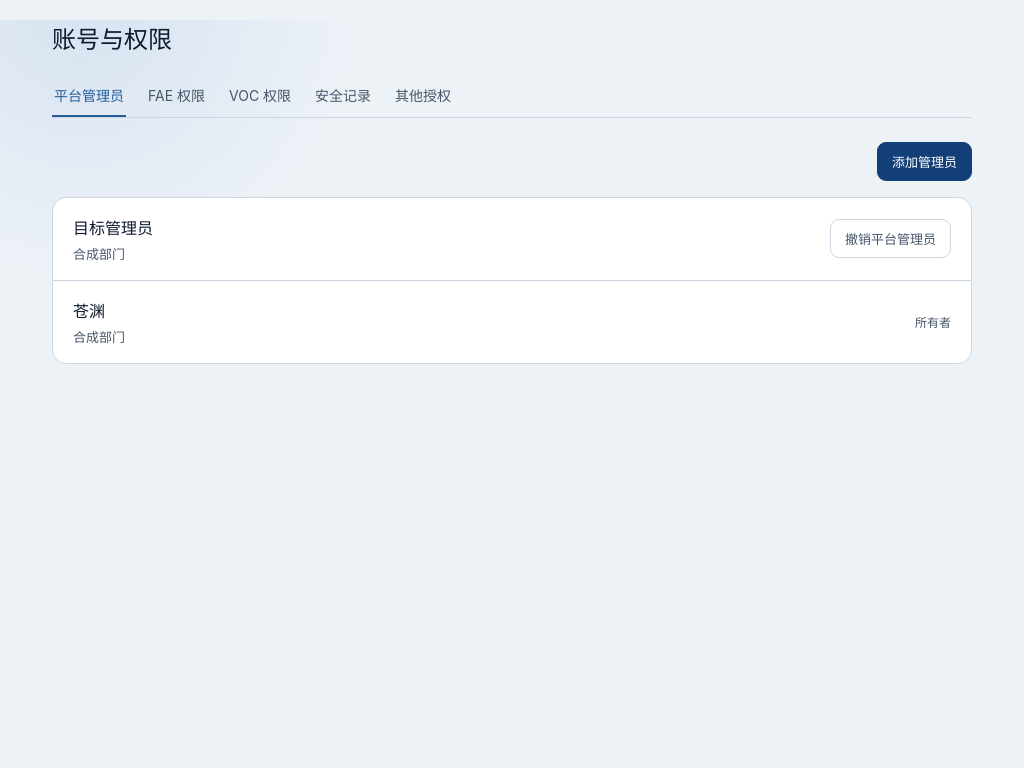
Test: IdentityManagementPage › keeps the outcome unknown without claiming a refresh when reconciliation reads fail
Click the button "添加管理员" at (924, 161), box x1=877 y1=142 x2=972 y2=181
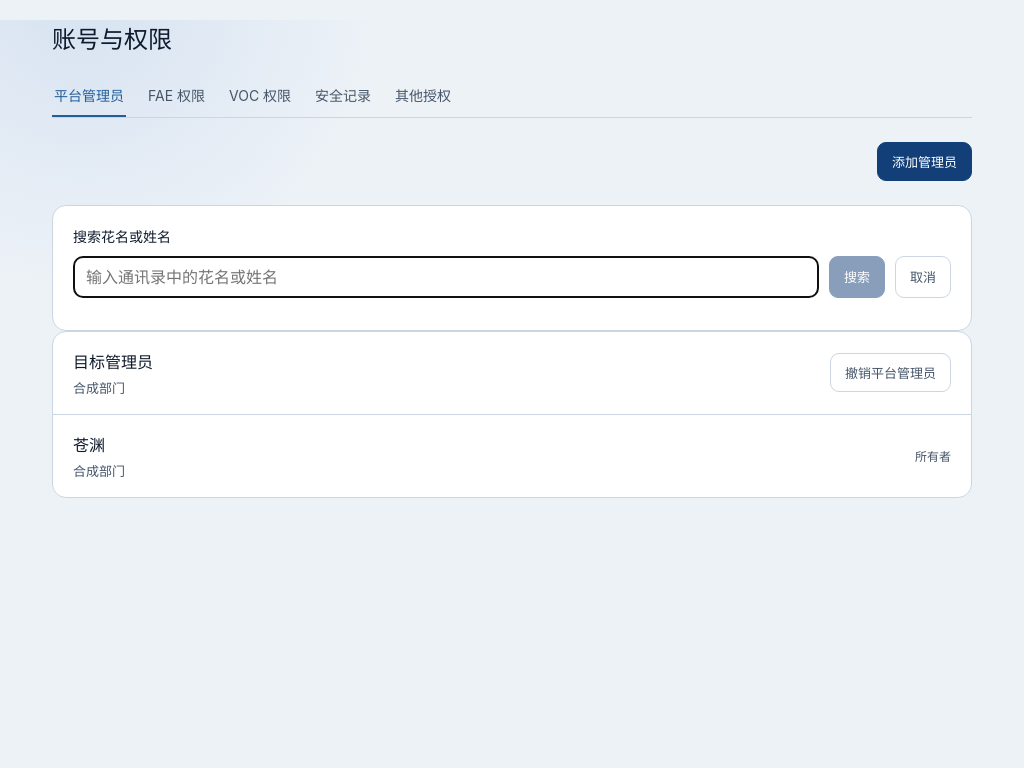
Type "测试成员" into the field with id "administrator-query" at (446, 277), box x1=73 y1=256 x2=819 y2=298
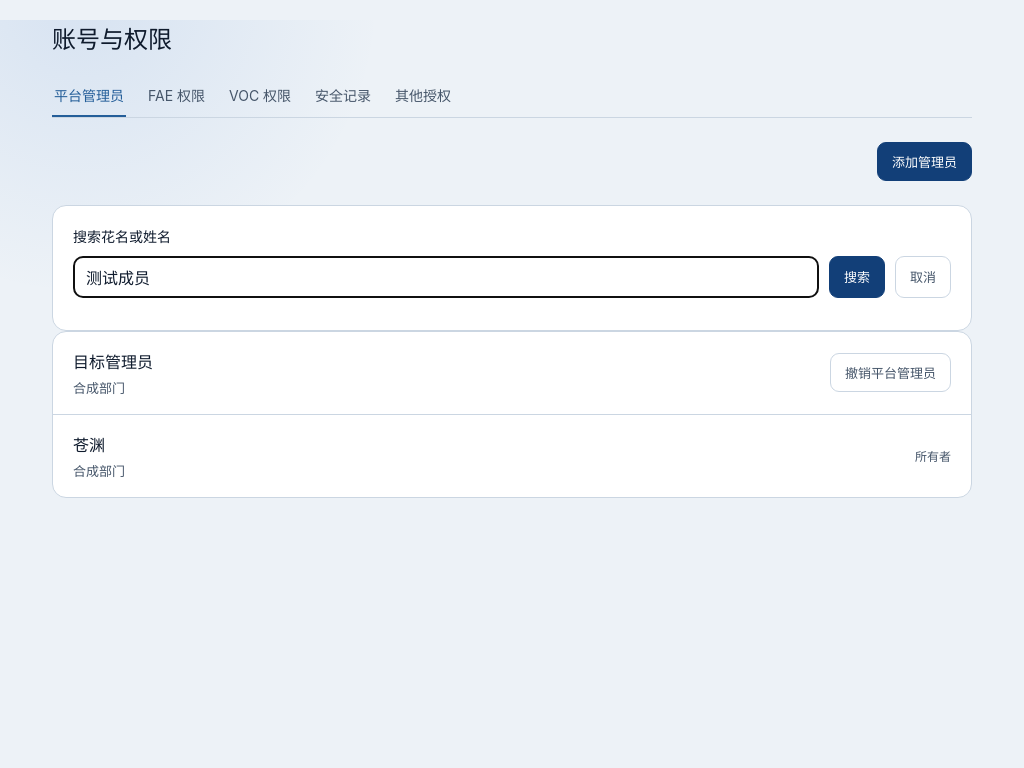
Submit the form, box x1=73 y1=226 x2=951 y2=298
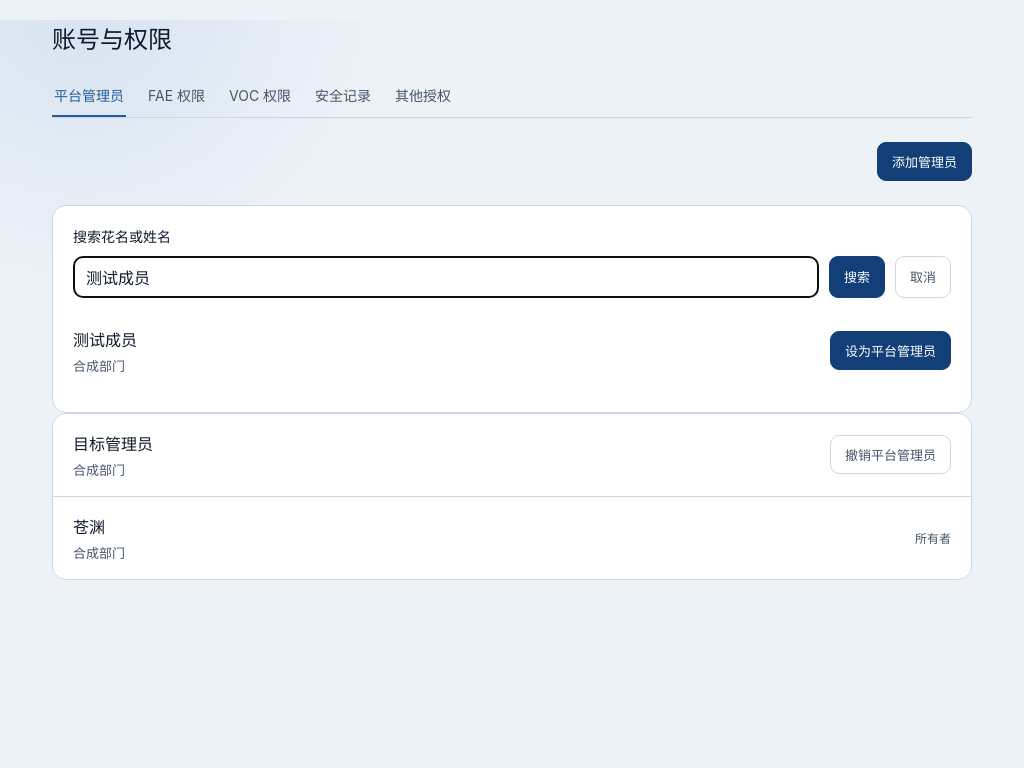
Click the button "设为平台管理员" at (890, 351), box x1=830 y1=331 x2=951 y2=370
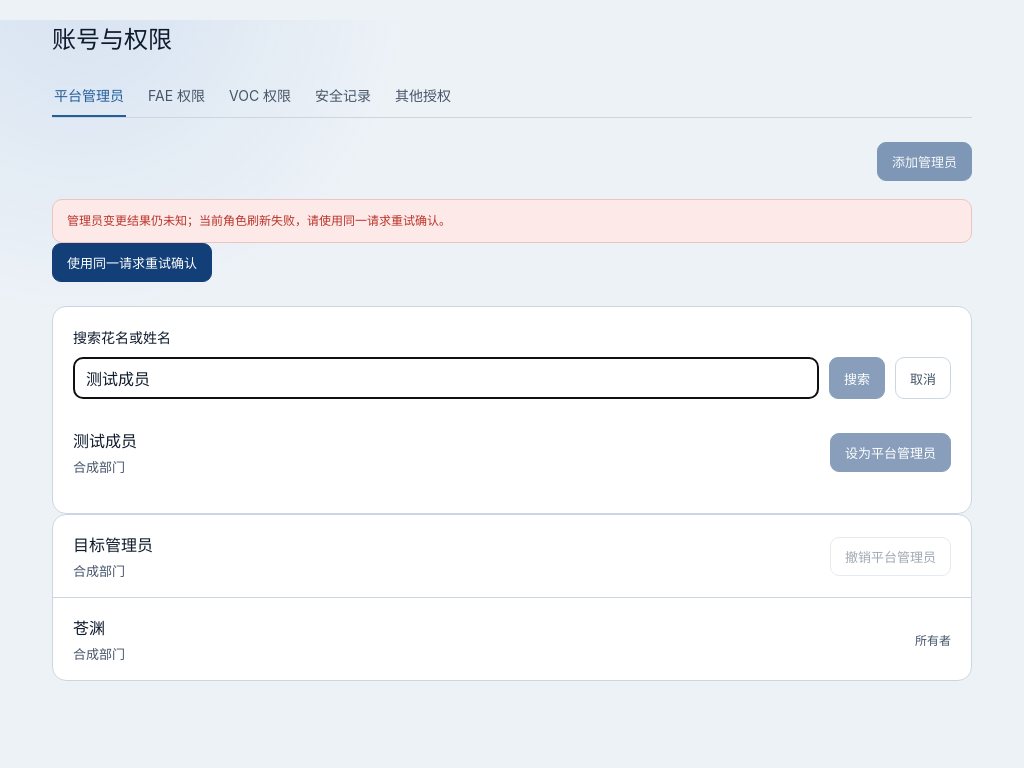
Expected: the text "管理员变更结果仍未知；当前角色刷新失败，请使用同一请求重试确认。" is shown, x1=52 y1=199 x2=972 y2=243
